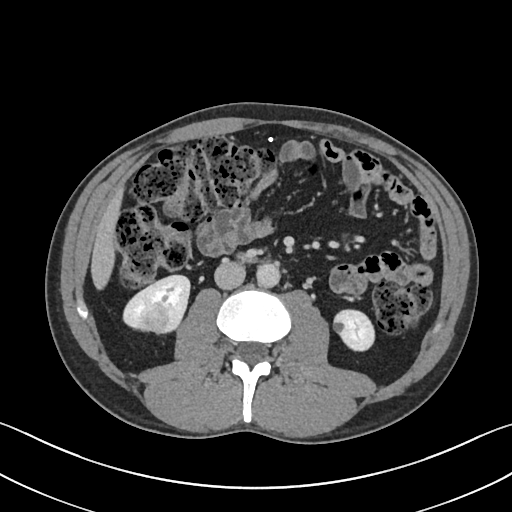Lesion: (139, 300, 171, 336)
